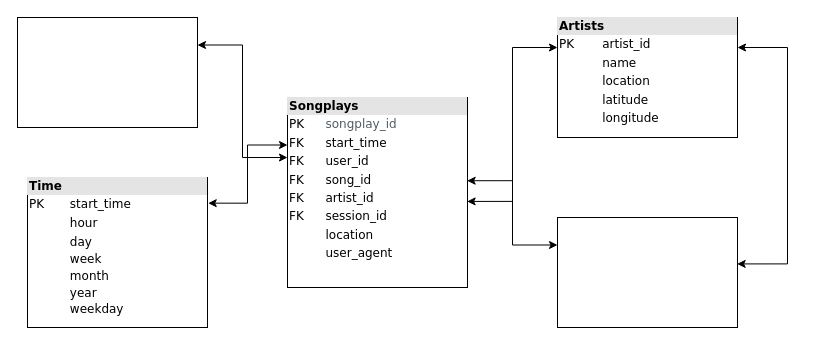
Image size: 814x345. Some labels were removed from this diagram. The centre of each missing label's shape, as x and y in pixels:
Songs PK song_id FK artist_id year duration: pixel 647 272
Users PK user_id first_name last_name gender level: pixel 107 72
